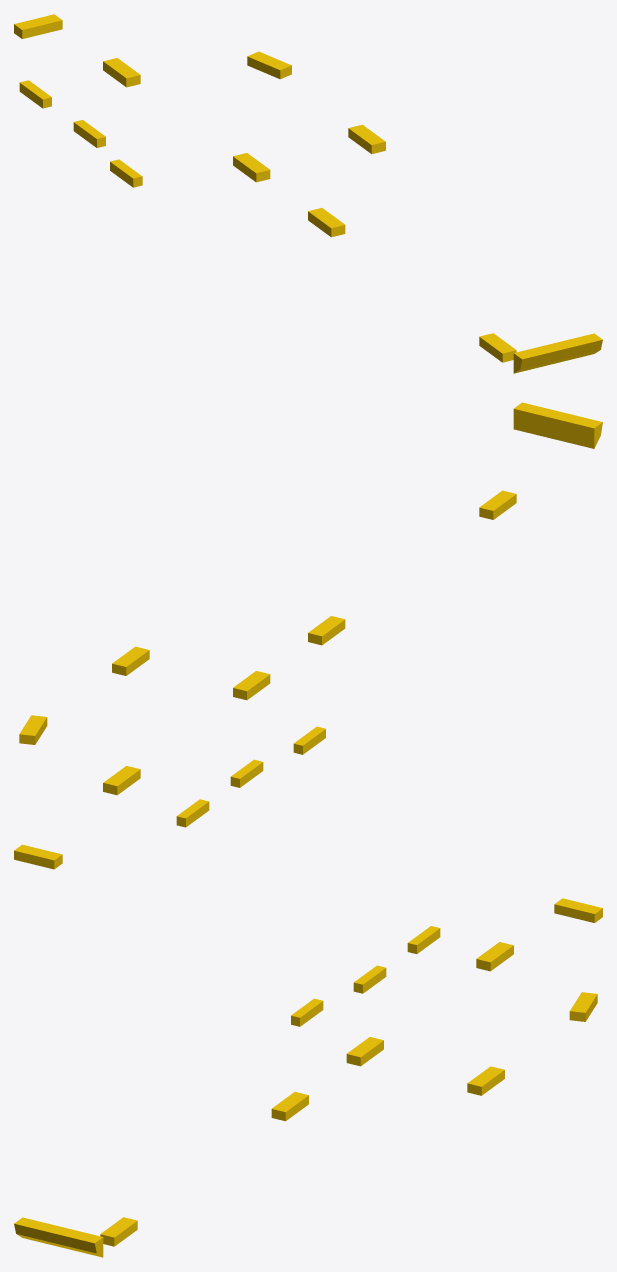
The model's file is LightsInterior.glb.
The picture shows the model from 3 angles, top to bottom: view 1: azimuth 30°, elevation 25°; view 2: azimuth 150°, elevation 25°; view 3: azimuth 330°, elevation 25°; orthographic projection.
Parts seen in each view (by area): view 1: Light, Light.010, Light.005, Light.003, Light.004, Light.006, Light.002, Light.001, Light.007, Light.009, Light.008; view 2: Light, Light.010, Light.003, Light.006, Light.001, Light.004, Light.002; view 3: Light, Light.010, Light.006, Light.003, Light.004, Light.002, Light.001, Light.005, Light.008, Light.007, Light.009.
Part boxes in pixels (x1=…): Light: x1=513, y1=333, x2=602, y2=373; Light.010: x1=14, y1=14, x2=62, y2=38; Light.005: x1=247, y1=51, x2=291, y2=79; Light.003: x1=233, y1=153, x2=270, y2=182; Light.004: x1=103, y1=58, x2=140, y2=87; Light.006: x1=348, y1=124, x2=385, y2=154; Light.002: x1=308, y1=208, x2=345, y2=237; Light.001: x1=479, y1=333, x2=516, y2=362; Light.007: x1=19, y1=80, x2=51, y2=108; Light.009: x1=110, y1=159, x2=142, y2=187; Light.008: x1=73, y1=120, x2=105, y2=147; Light: x1=513, y1=402, x2=602, y2=448; Light.010: x1=14, y1=844, x2=62, y2=869; Light.003: x1=233, y1=671, x2=270, y2=700; Light.006: x1=112, y1=646, x2=149, y2=675; Light.001: x1=479, y1=490, x2=516, y2=519; Light.004: x1=103, y1=766, x2=140, y2=795; Light.002: x1=308, y1=616, x2=345, y2=645; Light: x1=14, y1=1217, x2=103, y2=1257; Light.010: x1=554, y1=898, x2=602, y2=922; Light.006: x1=467, y1=1066, x2=504, y2=1095; Light.003: x1=346, y1=1037, x2=383, y2=1066; Light.004: x1=476, y1=942, x2=513, y2=971; Light.002: x1=271, y1=1092, x2=308, y2=1121; Light.001: x1=100, y1=1217, x2=137, y2=1246; Light.005: x1=569, y1=992, x2=597, y2=1021; Light.008: x1=353, y1=965, x2=386, y2=993; Light.007: x1=407, y1=926, x2=440, y2=953; Light.009: x1=291, y1=998, x2=323, y2=1026.
Size of the model in its own units: 5.61 by 1.55 by 22.67.
